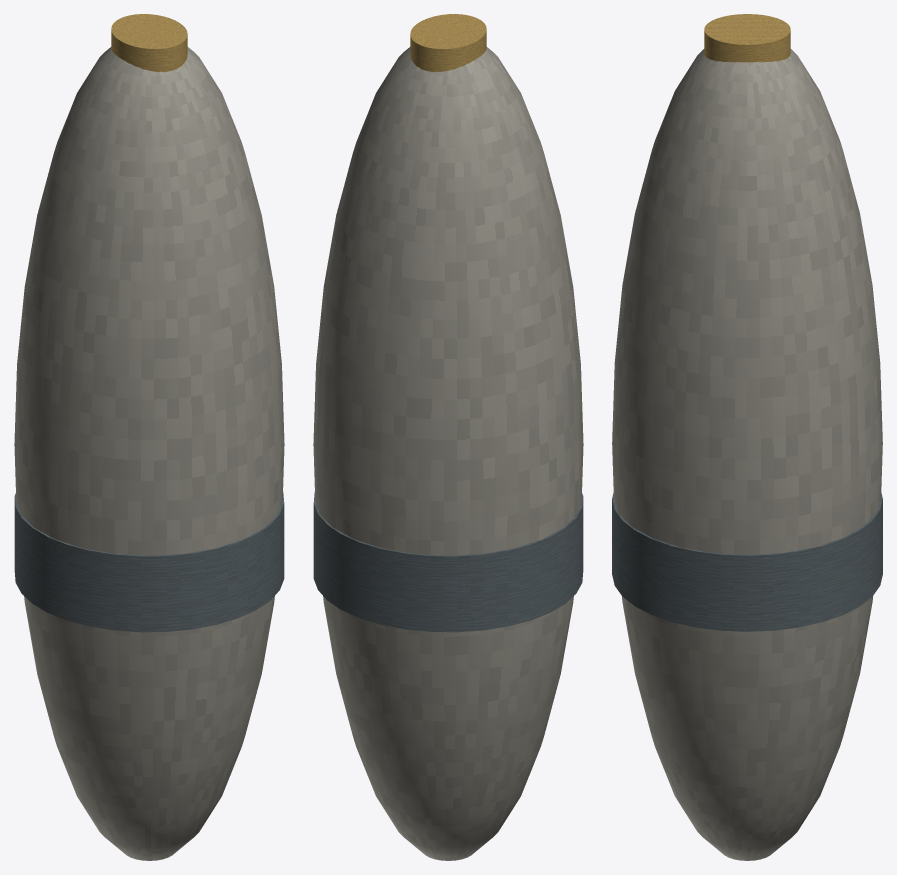
The picture shows the model from 3 angles, left to right: view 1: azimuth 30°, elevation 25°; view 2: azimuth 150°, elevation 25°; view 3: azimuth 270°, elevation 25°; orthographic projection.
Visible parts, largest first — view 1: tank, band, valve; view 2: tank, band, valve; view 3: tank, band, valve.
Boxes of the visible parts, x1,y1,x2,y2 form: tank: (14,47,284,860); band: (14,492,284,632); valve: (111,14,187,72); tank: (313,47,583,860); band: (313,492,583,632); valve: (410,14,486,72); tank: (612,49,882,860); band: (612,493,882,631); valve: (704,14,790,62).
Size of the model in its own units: 0.18 by 0.6076 by 0.18.
Materials: 3 (3 with a texture image).
